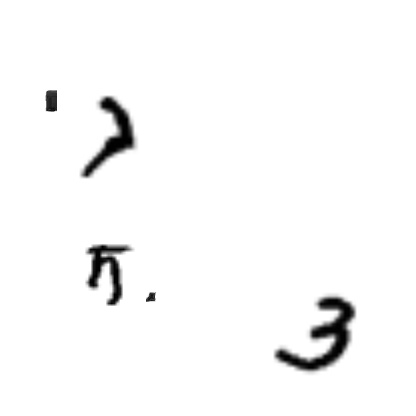3: (267, 278, 379, 390)
4: (341, 335, 355, 349)
5: (62, 224, 146, 308)
7: (57, 77, 169, 189)
Ankle_boot: (142, 290, 156, 304)
Bag: (44, 90, 66, 112)
